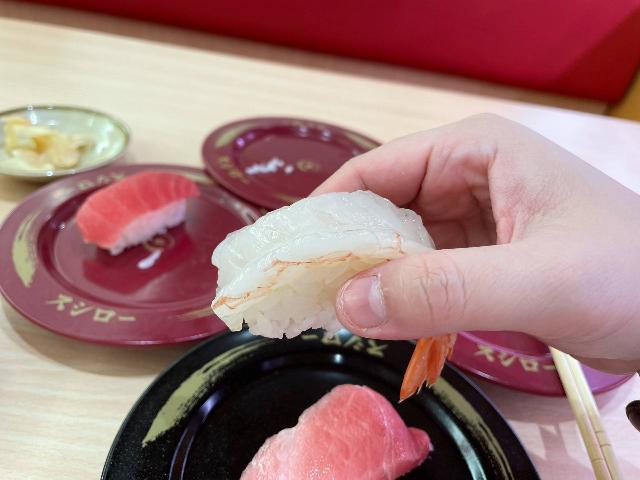janback: (147, 342, 555, 480)
janred: (22, 162, 280, 348), (402, 312, 640, 410), (208, 114, 430, 200)
